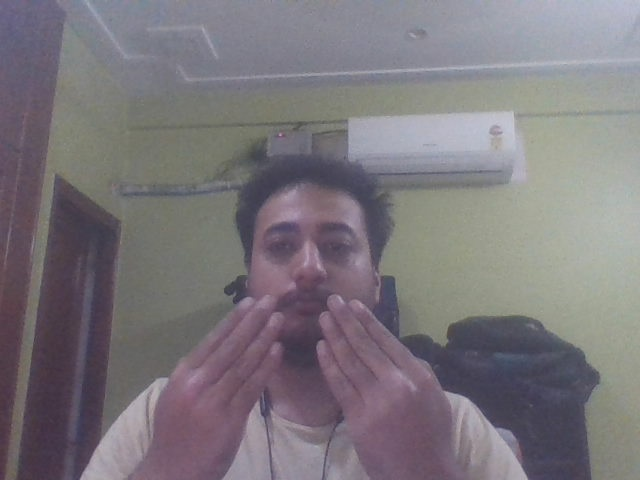Thanks: (120, 288, 522, 480)
